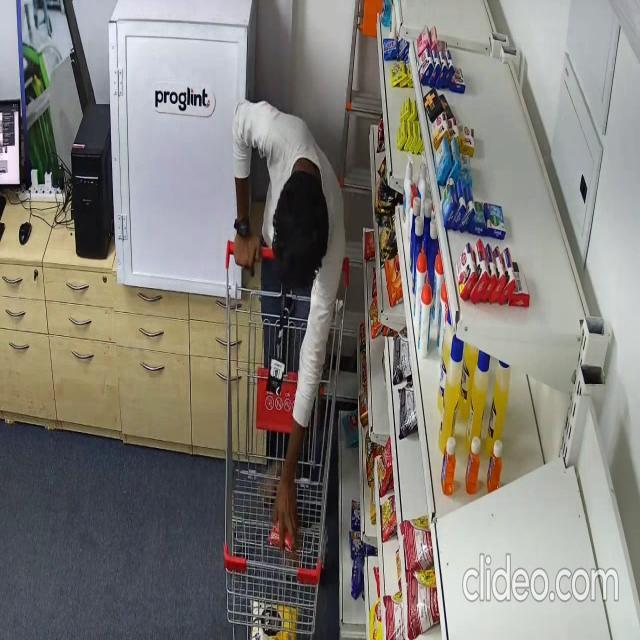normal: (231, 97, 345, 562)
